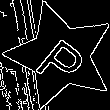P_NE: (29, 24, 91, 87)
